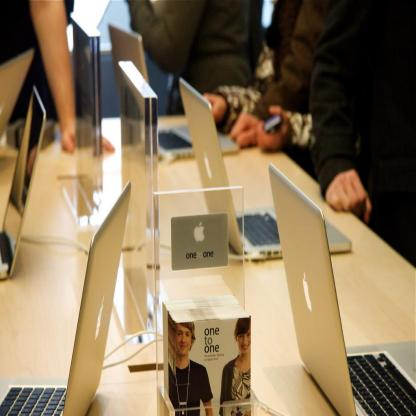board: (270, 160, 416, 415), (179, 79, 352, 260), (0, 182, 130, 414), (108, 26, 240, 162), (0, 88, 46, 282), (0, 48, 33, 138)
